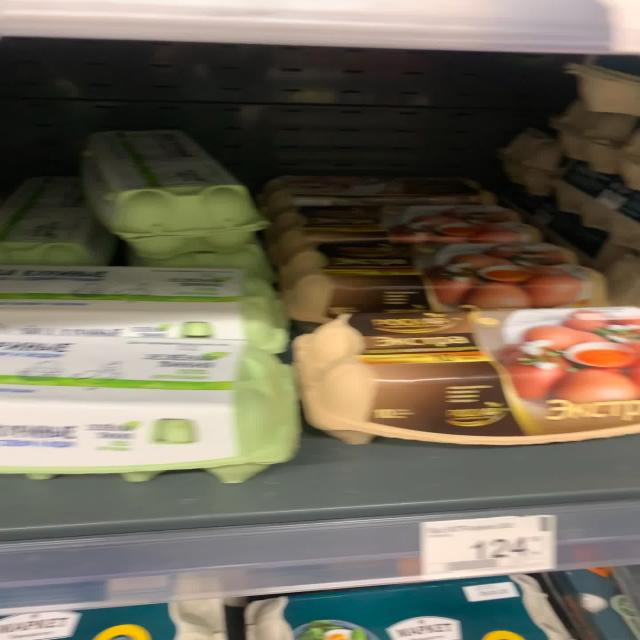egg box: (282, 312, 638, 446), (2, 352, 304, 483), (2, 259, 290, 358), (68, 125, 268, 258), (276, 242, 608, 322), (272, 203, 539, 264), (260, 168, 496, 220)
